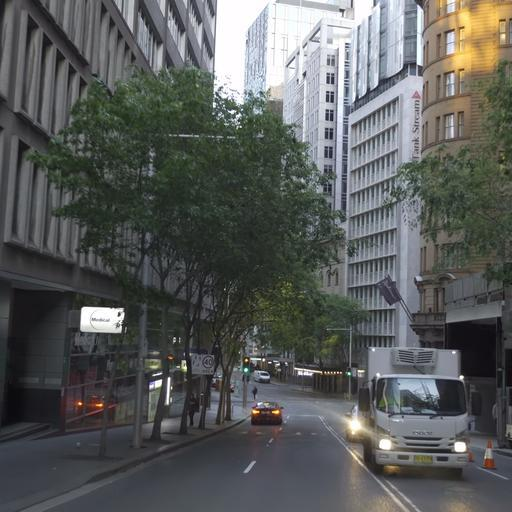Street light: (413, 271, 455, 348), (325, 325, 353, 399), (242, 355, 249, 375)
